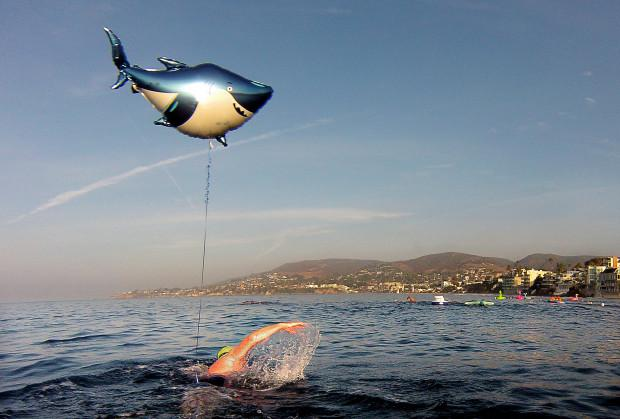swimmer: (198, 314, 308, 383)
